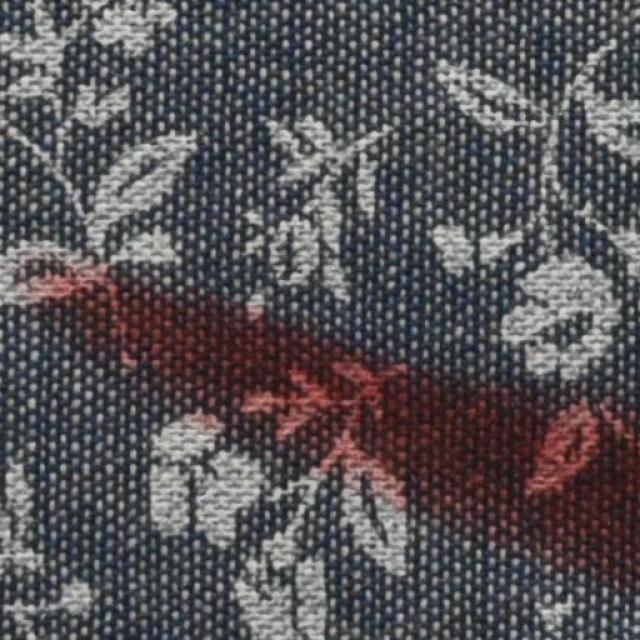Stain: (60, 260, 639, 587)
